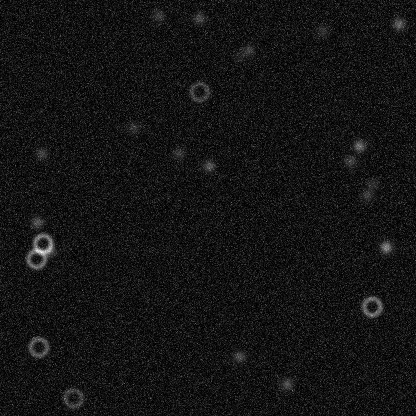Ring: (26, 334, 50, 358), (359, 294, 383, 318), (30, 231, 54, 255), (61, 386, 85, 410), (187, 79, 211, 103), (24, 246, 48, 270)
Spot: (125, 119, 141, 135), (377, 239, 393, 255), (200, 157, 216, 173), (364, 175, 380, 191), (231, 348, 247, 364), (29, 214, 45, 230), (390, 15, 406, 31), (342, 153, 358, 169), (33, 145, 49, 161), (41, 242, 57, 258), (278, 375, 294, 391), (351, 137, 367, 153), (231, 48, 247, 64), (150, 7, 166, 23), (358, 187, 374, 203), (314, 23, 330, 39), (240, 42, 256, 58), (170, 145, 186, 161), (191, 10, 207, 26)
